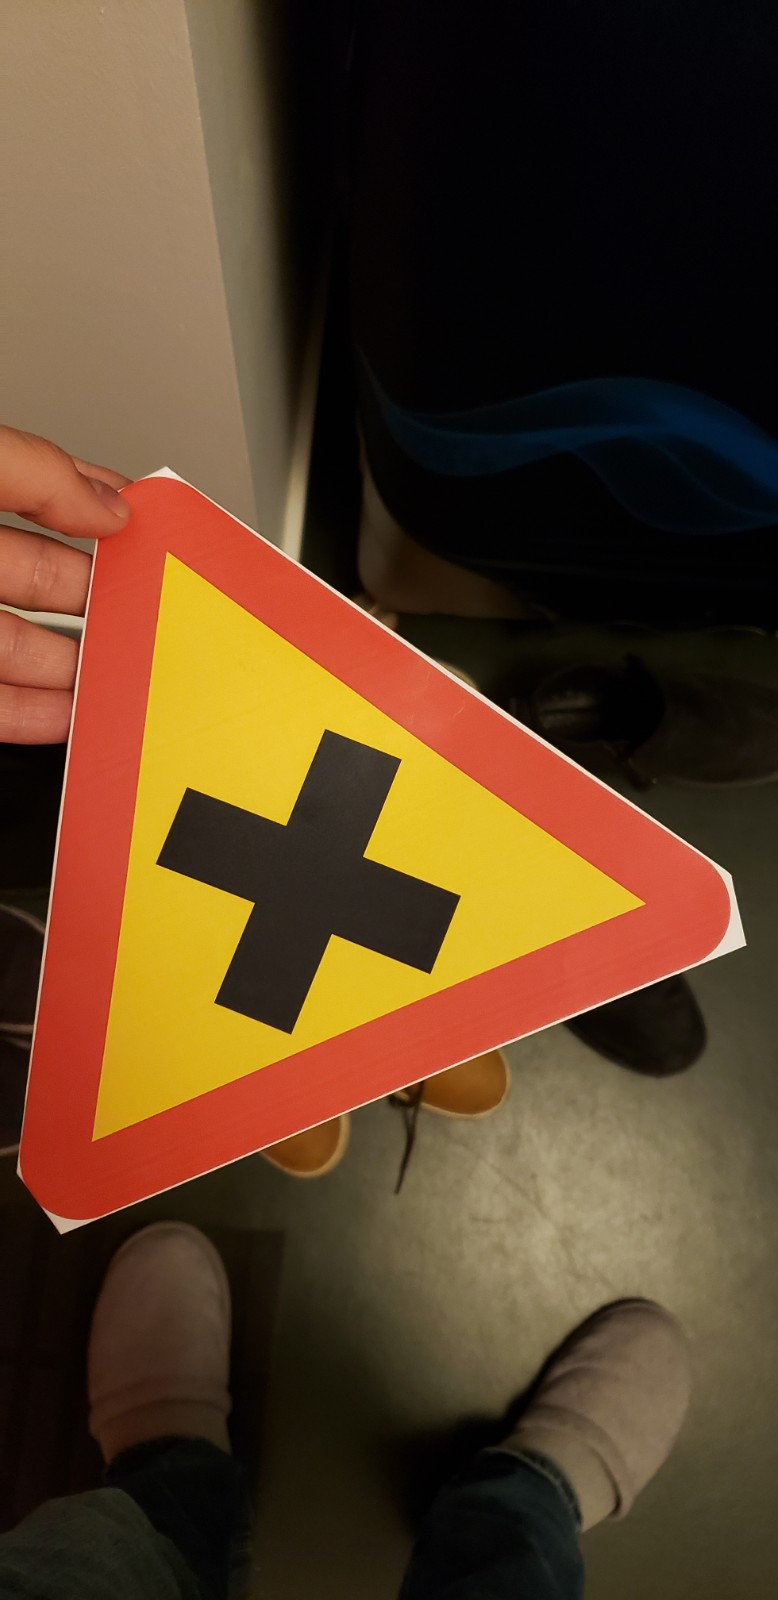junction: (21, 444, 722, 1262)
